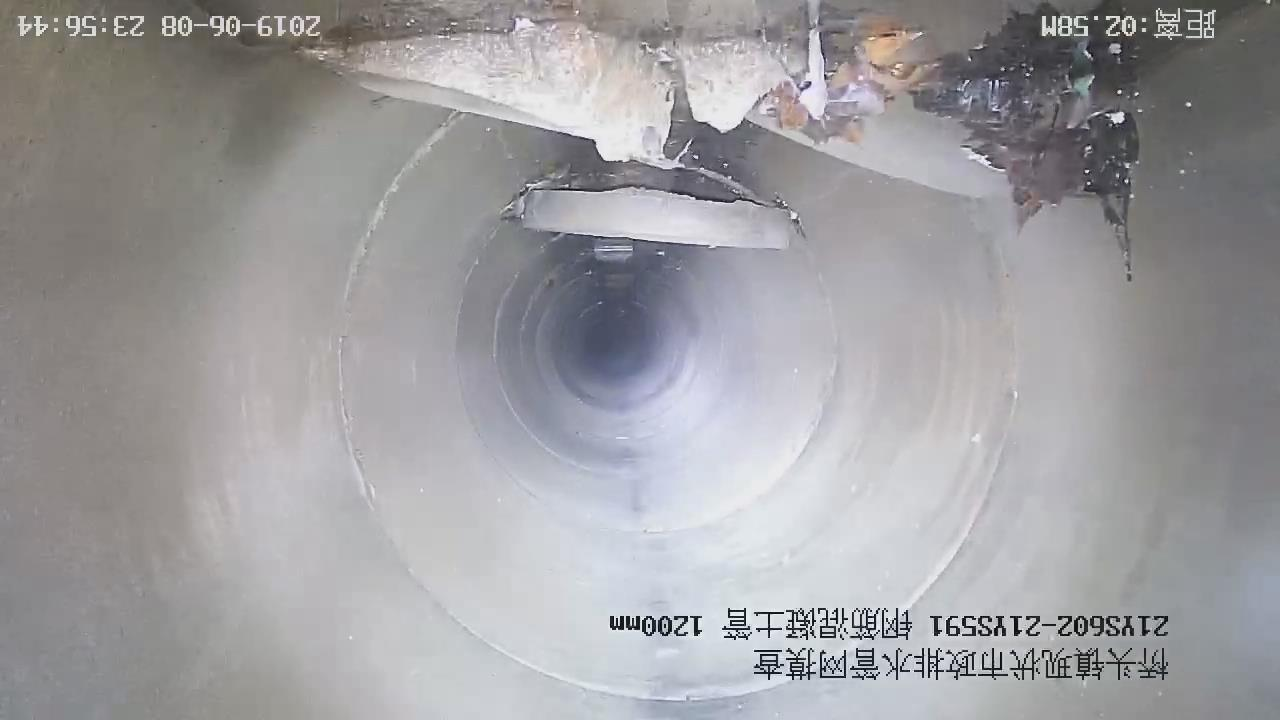ZAW: (306, 18, 1138, 230), (515, 186, 799, 247)
